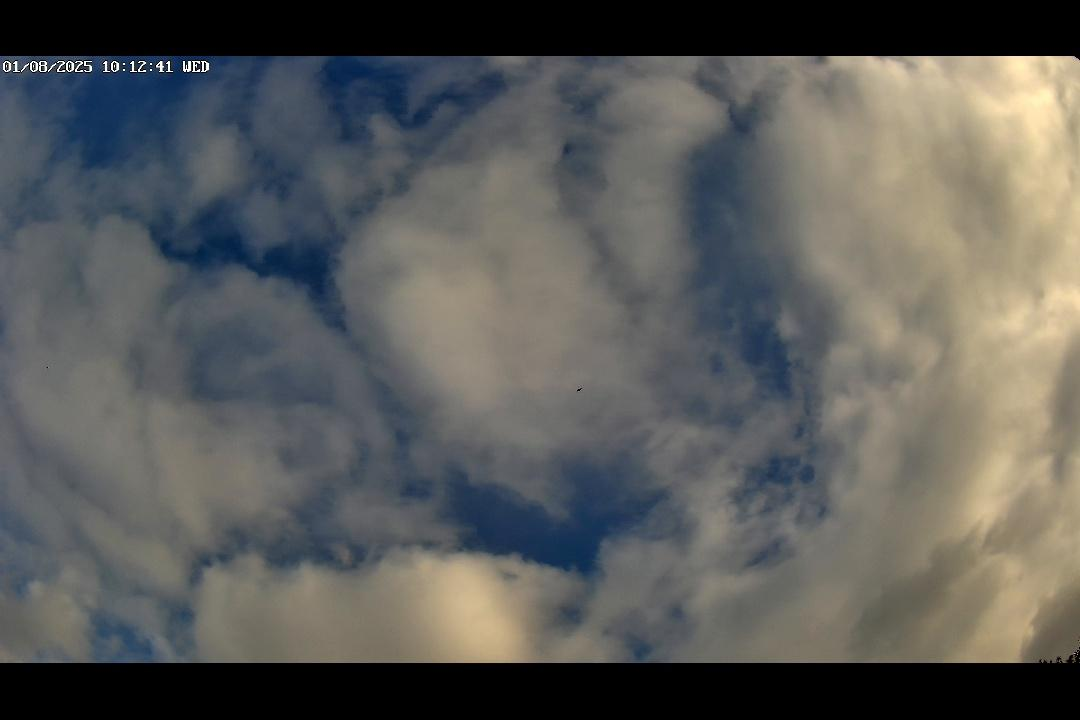WildLife: (575, 385, 584, 396), (43, 365, 51, 371)
